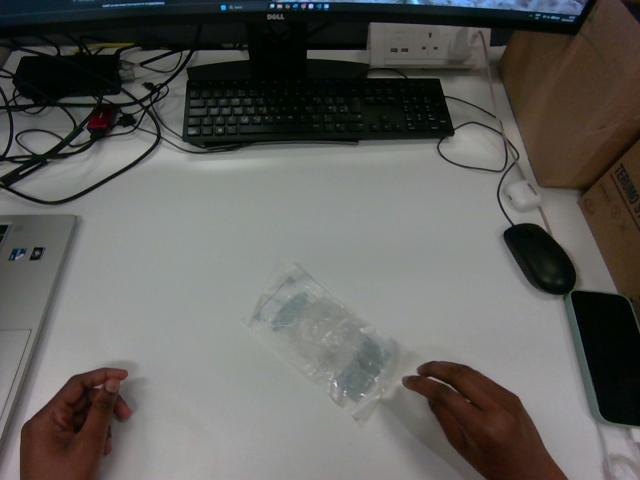gallipot: (249, 267, 398, 419)
